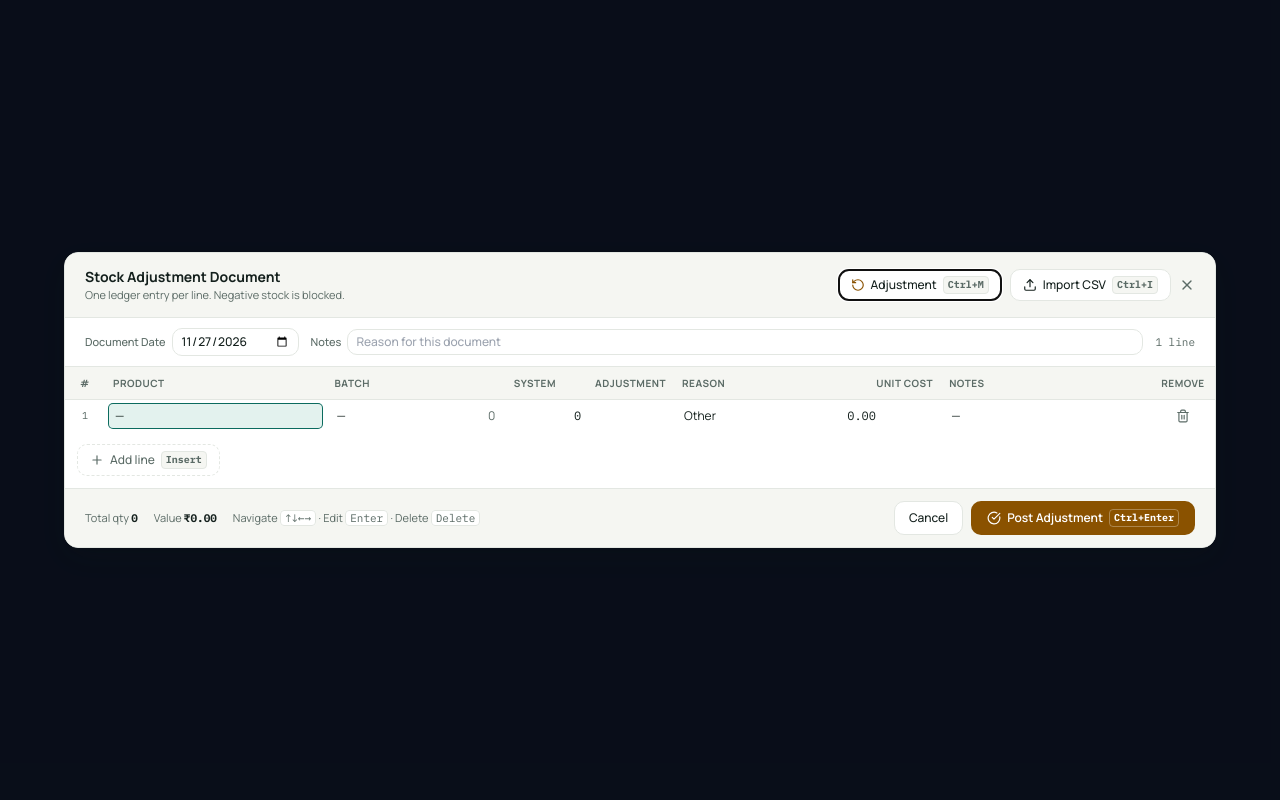
Scenario: StockAdjustmentDocumentModal keyboard grid › starts and commits an in-cell edit with Enter alone
Press ArrowUp in the button "Add line Insert", box top-left (77, 444), bottom-right (220, 476)
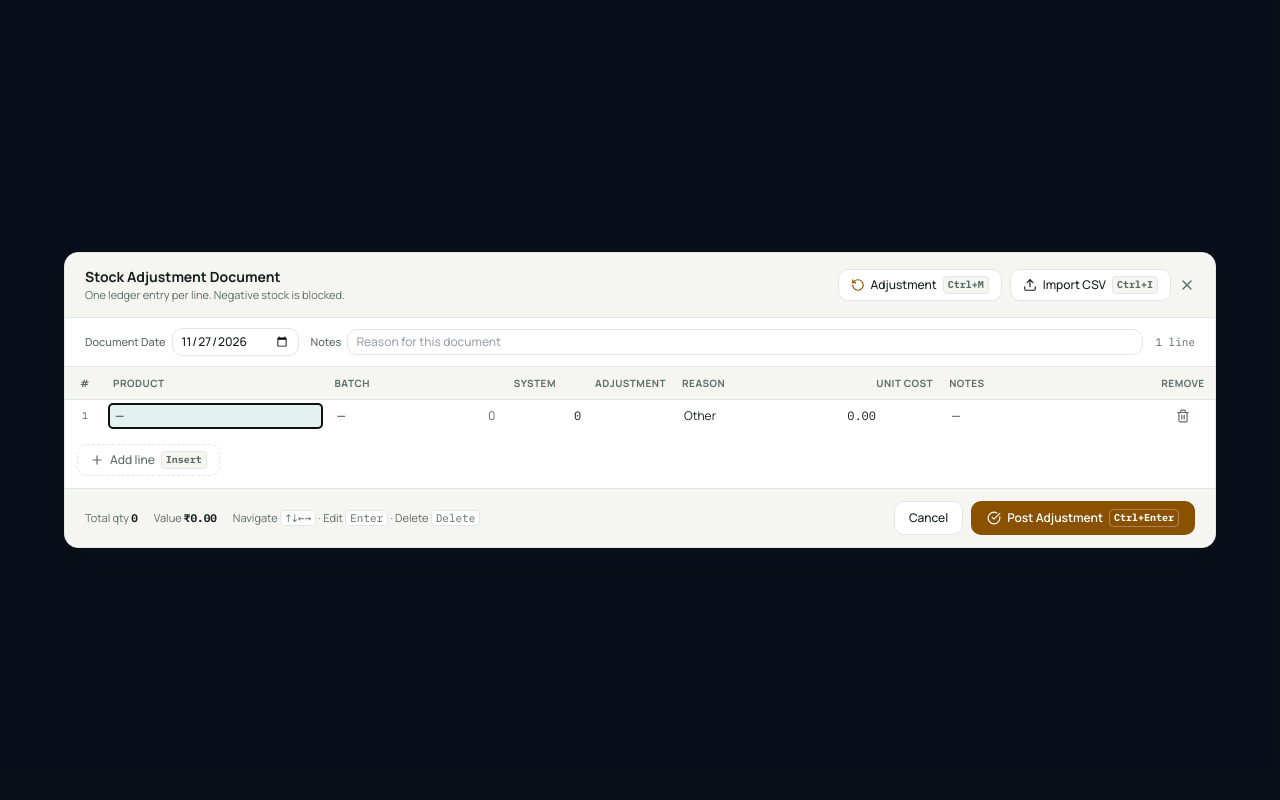
Press ArrowRight in the button "Add line Insert", box top-left (77, 444), bottom-right (220, 476)
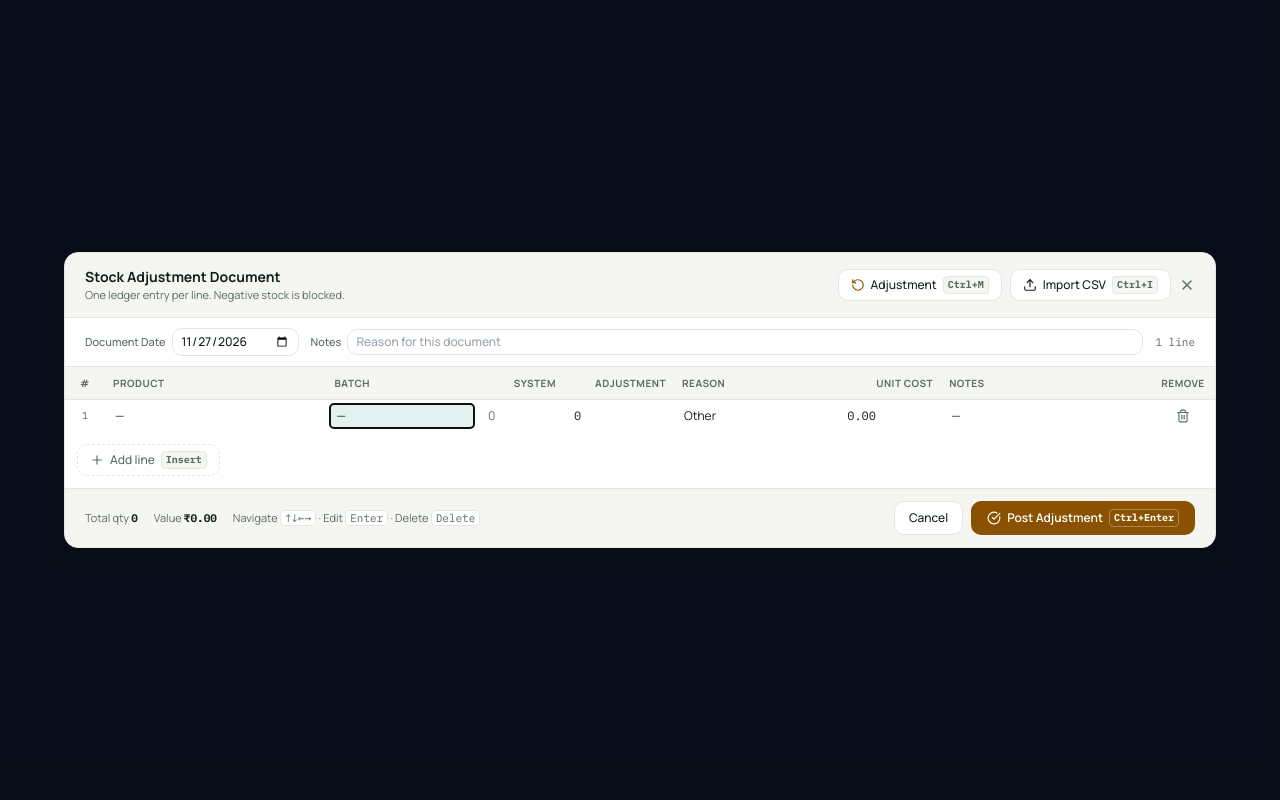
Press ArrowRight in the button "Add line Insert", box top-left (77, 444), bottom-right (220, 476)
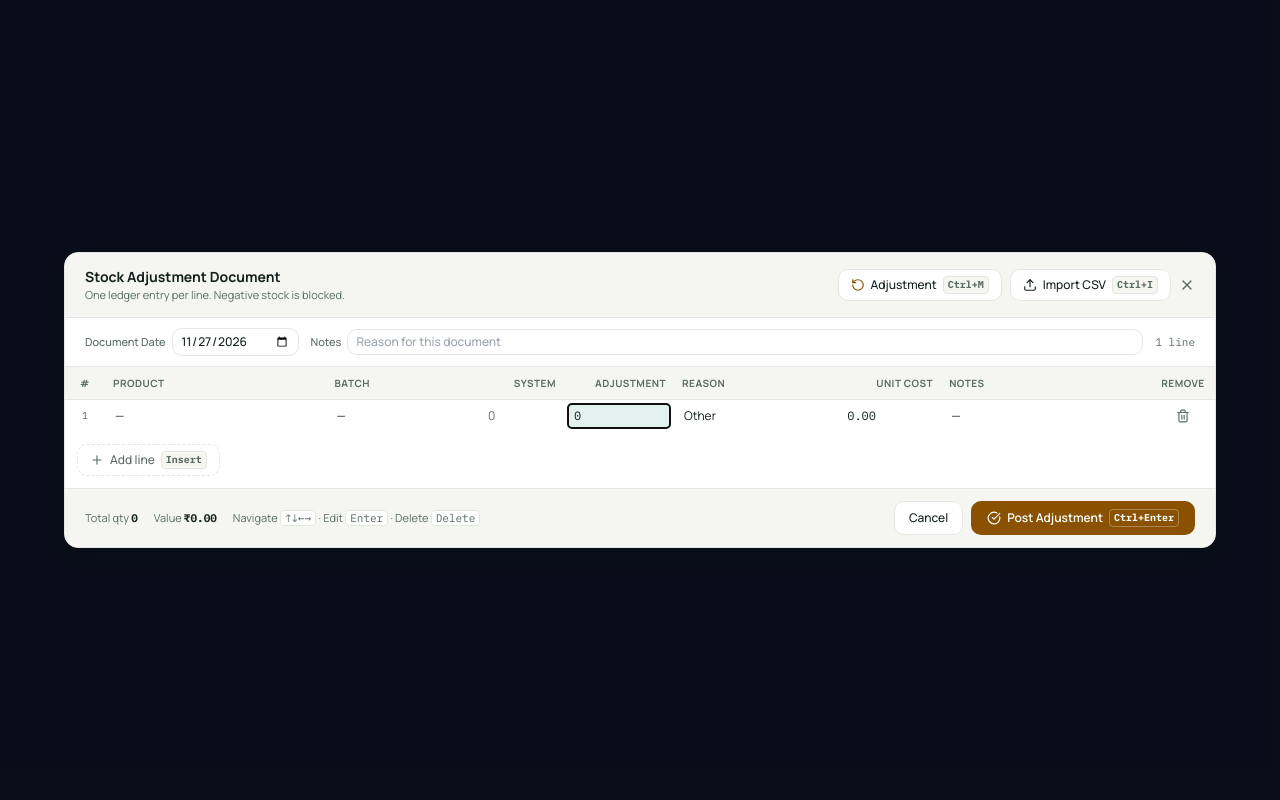
Press Enter in the button "Add line Insert", box top-left (77, 444), bottom-right (220, 476)
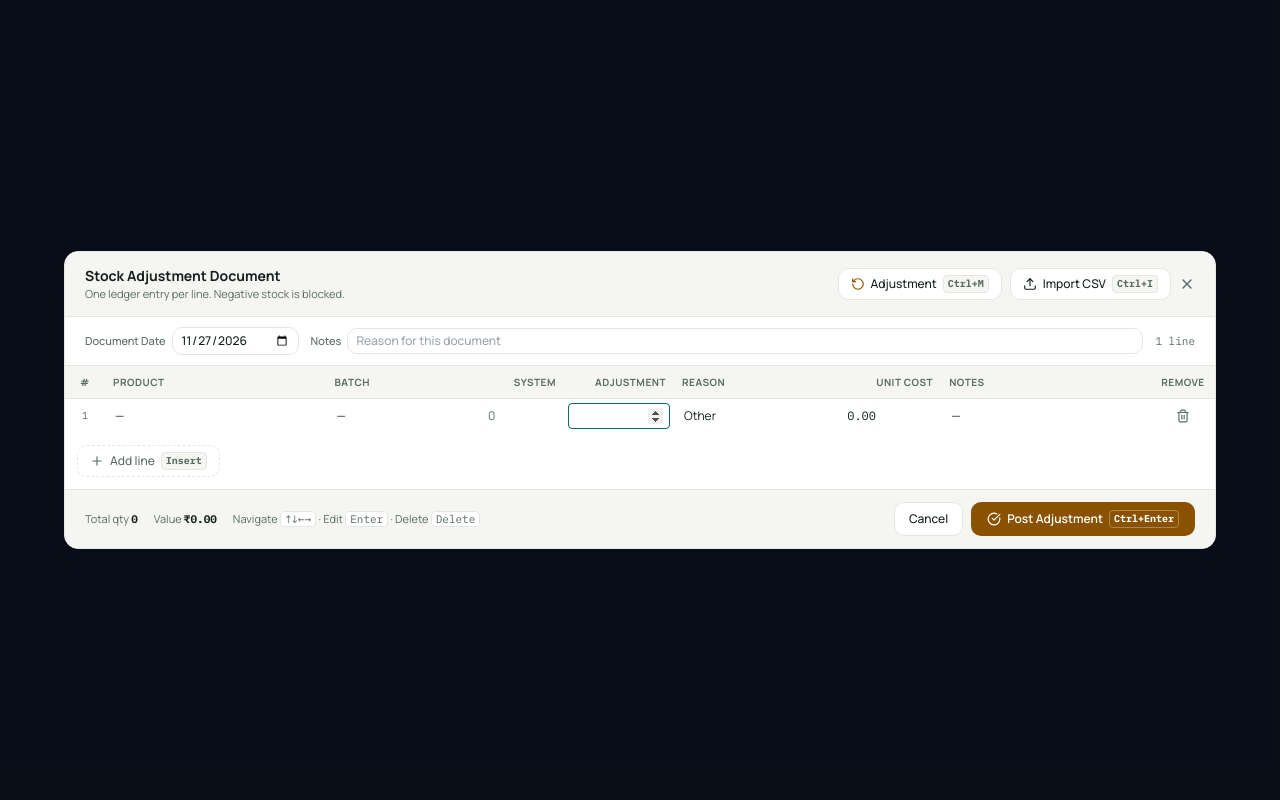
Type "-10" into the number field. click: (619, 416)
box: top-left (568, 403), bottom-right (670, 429)
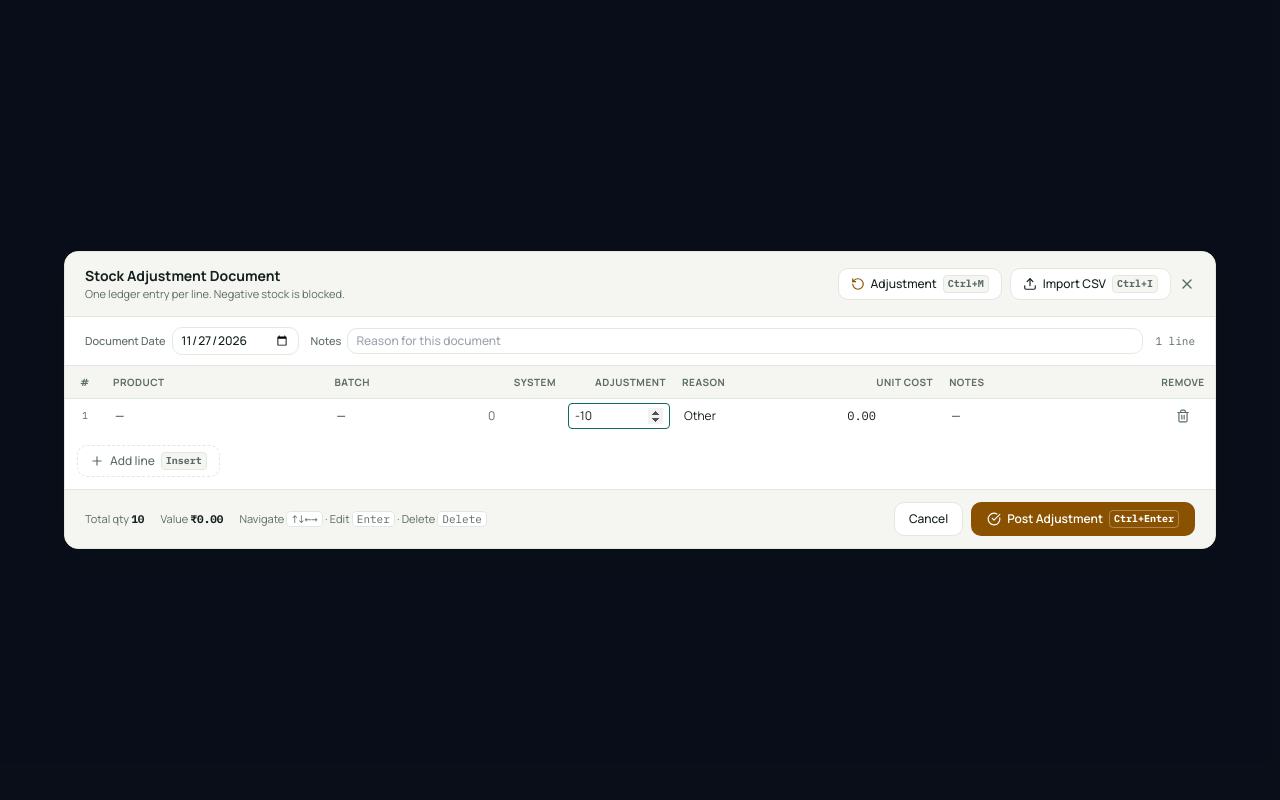
Press Enter in the number field, box top-left (568, 403), bottom-right (670, 429)
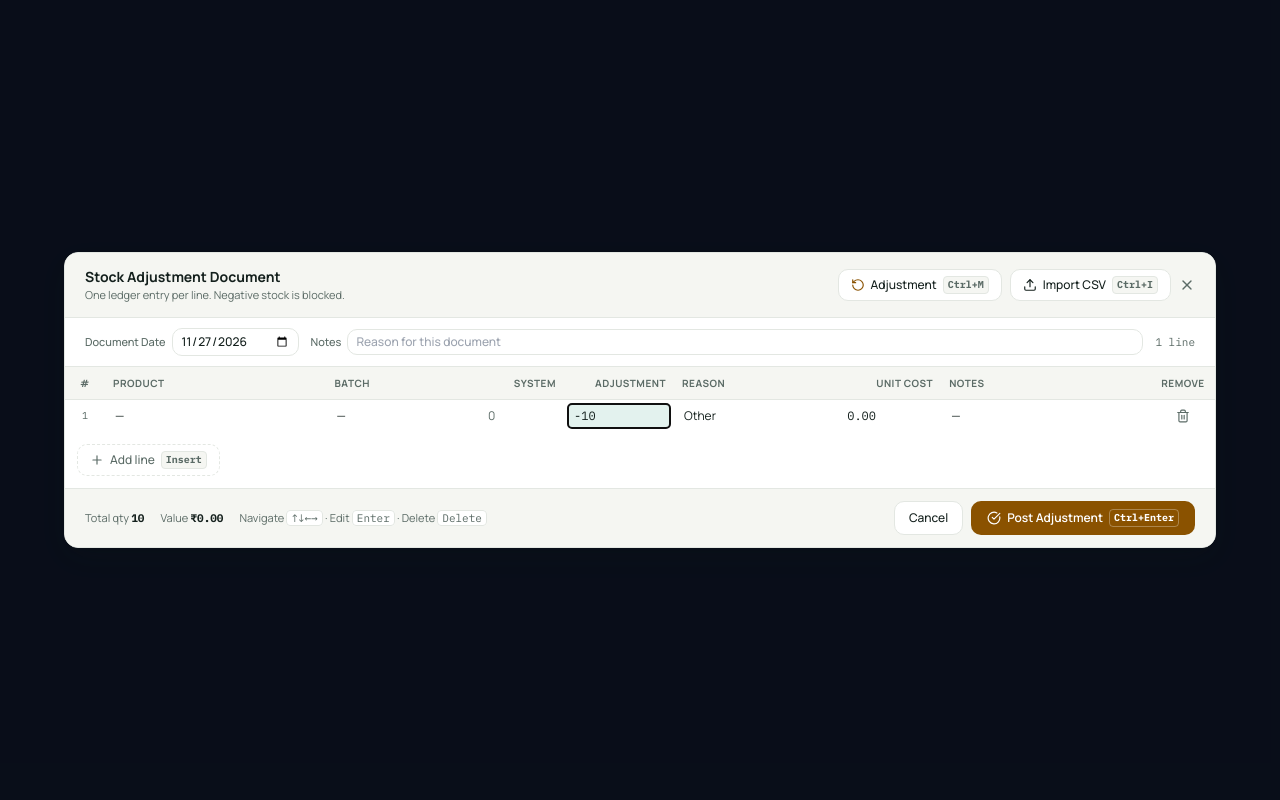
Now the text "-10" is shown, box top-left (568, 404), bottom-right (670, 428)
